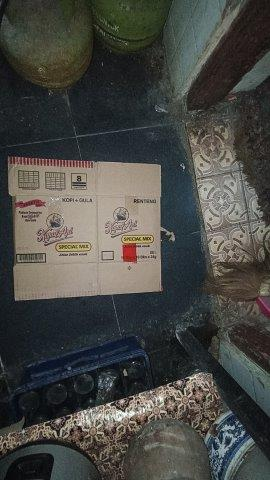kardus: (8, 157, 160, 299)
